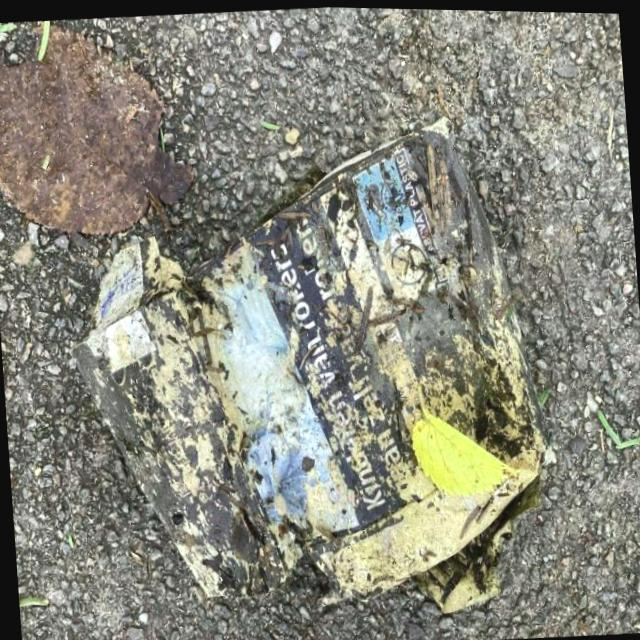Paper: (49, 95, 568, 640)
